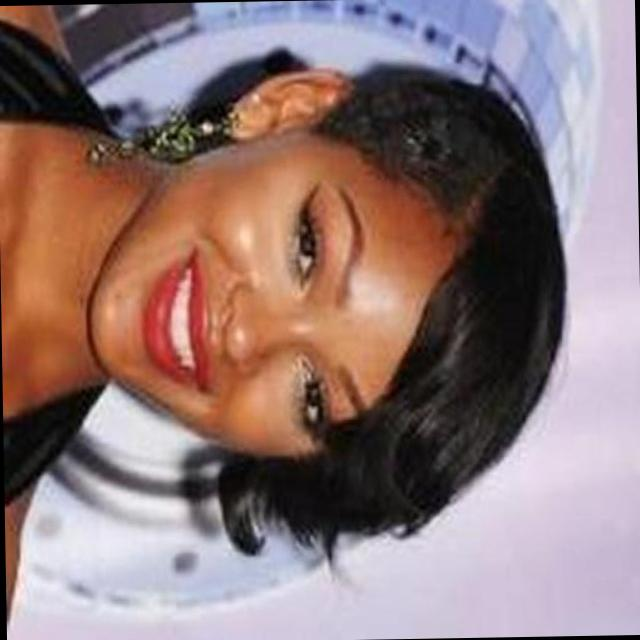bareface: (90, 84, 498, 496)
